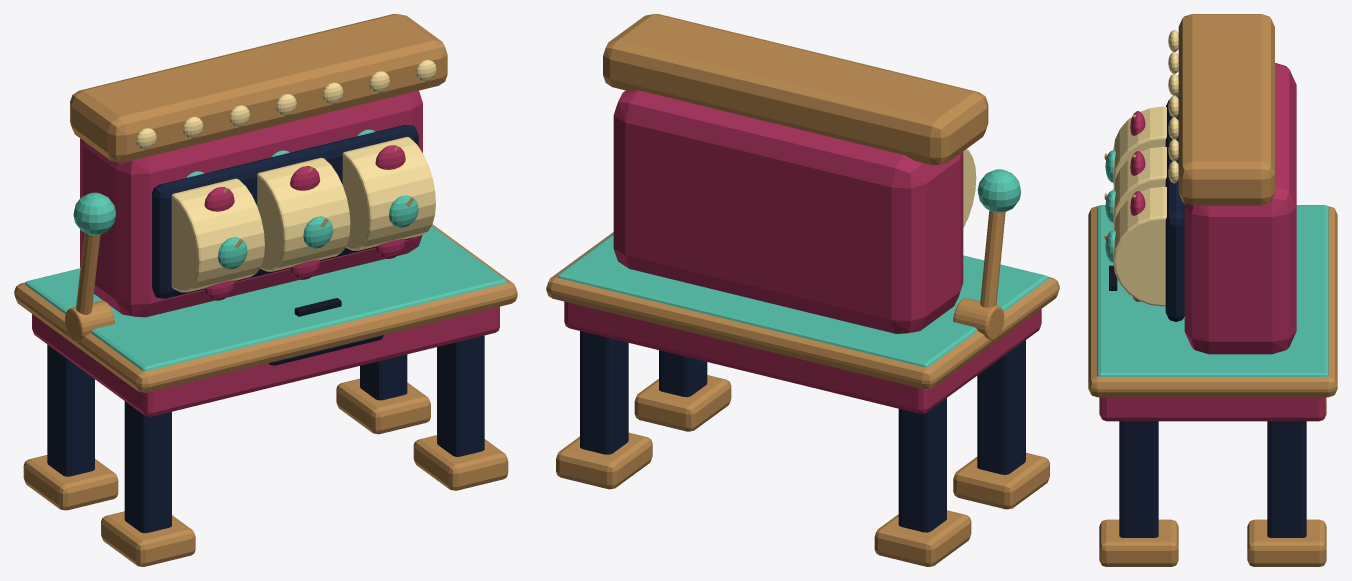
Rendered from Slots.fbx.
The picture shows the model from 3 angles, left to right: view 1: azimuth 30°, elevation 25°; view 2: azimuth 150°, elevation 25°; view 3: azimuth 270°, elevation 25°; orthographic projection. The views are drawn at different scales.
Visible parts, largest first — view 1: Slots.Mesh, Slots.Reel0.Mesh, Slots.Reel2.Mesh, Slots.Reel1.Mesh, Slots.Lever.Mesh; view 2: Slots.Mesh, Slots.Lever.Mesh, Slots.Reel0.Mesh; view 3: Slots.Mesh, Slots.Reel2.Mesh, Slots.Reel0.Mesh, Slots.Reel1.Mesh.
Boxes of the visible parts, <box> form: Slots.Mesh: <box>14,14,517,566</box>; Slots.Reel0.Mesh: <box>171,171,264,300</box>; Slots.Reel2.Mesh: <box>342,129,435,258</box>; Slots.Reel1.Mesh: <box>257,150,350,279</box>; Slots.Lever.Mesh: <box>73,192,115,314</box>; Slots.Mesh: <box>546,14,1059,566</box>; Slots.Lever.Mesh: <box>977,169,1021,307</box>; Slots.Reel0.Mesh: <box>963,149,976,227</box>; Slots.Mesh: <box>1088,14,1337,566</box>; Slots.Reel2.Mesh: <box>1104,186,1184,306</box>; Slots.Reel0.Mesh: <box>1104,106,1166,185</box>; Slots.Reel1.Mesh: <box>1104,146,1166,225</box>.
Size of the model in its own units: 251 by 253 by 145.
